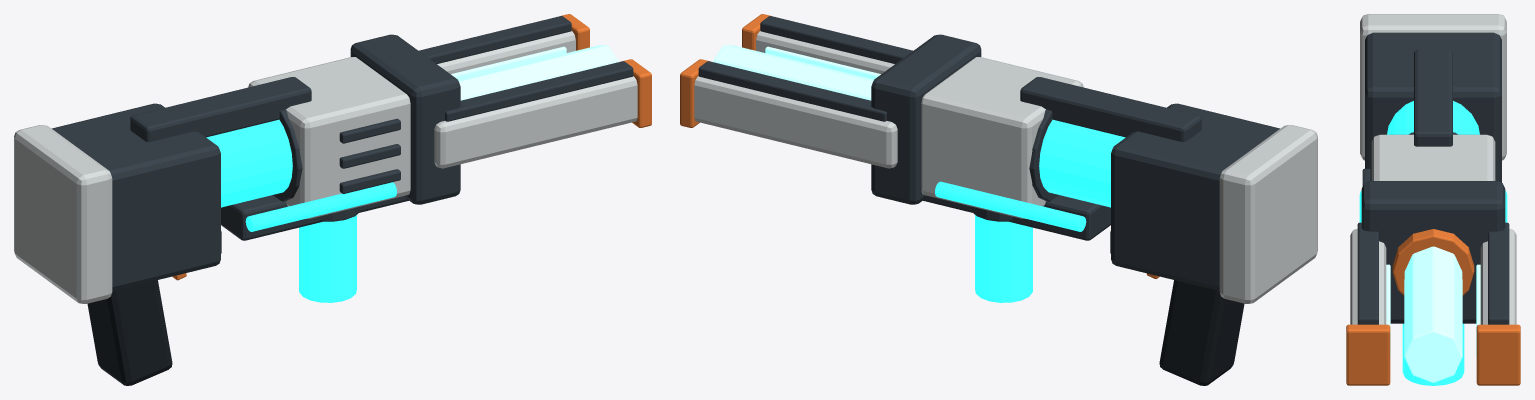
Rendered from lg_duel_freeze_gun.glb.
The picture shows the model from 3 angles, left to right: view 1: azimuth 30°, elevation 25°; view 2: azimuth 150°, elevation 25°; view 3: azimuth 270°, elevation 25°; orthographic projection. The views are drawn at different scales.
Visible parts, largest first — view 1: FG_REAR_HOUSING, FG_REAR_CERAMIC_CAP, FG_FORWARD_RECEIVER, FG_EMITTER_FORK, FG_EMITTER_COLLAR, FG_PRIMARY_GRIP, FG_TOP_SPINE, FG_COOLANT_CHAMBER, FG_REPLACEABLE_CANISTER, FG_FOCUS_CORE, FG_FORK_METAL_RAIL, FG_FORK_METAL_RAIL.001 (+9 smaller); view 2: FG_REAR_HOUSING, FG_FORWARD_RECEIVER, FG_REAR_CERAMIC_CAP, FG_EMITTER_FORK.001, FG_EMITTER_COLLAR, FG_PRIMARY_GRIP, FG_TOP_SPINE, FG_COOLANT_CHAMBER, FG_REPLACEABLE_CANISTER, FG_FOCUS_CORE, FG_FORK_METAL_RAIL.001, FG_FORK_METAL_RAIL (+6 smaller); view 3: FG_REAR_HOUSING, FG_EMITTER_COLLAR, FG_FOCUS_CORE, FG_FORWARD_RECEIVER, FG_REAR_CERAMIC_CAP, FG_TOP_SPINE, FG_FORK_TIP_CLAMP, FG_FORK_TIP_CLAMP.001, FG_FOCUS_COLLAR, FG_FORK_METAL_RAIL, FG_FORK_METAL_RAIL.001, FG_EMITTER_FORK (+5 smaller).
Boxes of the visible parts, x1=… form: FG_REAR_HOUSING: x1=52, y1=103, x2=220, y2=290; FG_REAR_CERAMIC_CAP: x1=14, y1=125, x2=112, y2=303; FG_FORWARD_RECEIVER: x1=248, y1=57, x2=410, y2=218; FG_EMITTER_FORK: x1=434, y1=76, x2=637, y2=168; FG_EMITTER_COLLAR: x1=350, y1=34, x2=460, y2=204; FG_PRIMARY_GRIP: x1=87, y1=280, x2=172, y2=385; FG_TOP_SPINE: x1=130, y1=77, x2=311, y2=141; FG_COOLANT_CHAMBER: x1=206, y1=119, x2=292, y2=207; FG_REPLACEABLE_CANISTER: x1=299, y1=215, x2=356, y2=302; FG_FOCUS_CORE: x1=458, y1=45, x2=618, y2=100; FG_FORK_METAL_RAIL: x1=445, y1=61, x2=633, y2=121; FG_FORK_METAL_RAIL.001: x1=419, y1=16, x2=571, y2=63; FG_REAR_HOUSING: x1=1111, y1=103, x2=1279, y2=290; FG_FORWARD_RECEIVER: x1=921, y1=57, x2=1083, y2=218; FG_REAR_CERAMIC_CAP: x1=1219, y1=125, x2=1317, y2=303; FG_EMITTER_FORK.001: x1=694, y1=76, x2=897, y2=168; FG_EMITTER_COLLAR: x1=871, y1=34, x2=981, y2=204; FG_PRIMARY_GRIP: x1=1159, y1=280, x2=1244, y2=385; FG_TOP_SPINE: x1=1020, y1=77, x2=1201, y2=141; FG_COOLANT_CHAMBER: x1=1039, y1=119, x2=1125, y2=207; FG_REPLACEABLE_CANISTER: x1=975, y1=215, x2=1032, y2=302; FG_FOCUS_CORE: x1=713, y1=45, x2=873, y2=100; FG_FORK_METAL_RAIL.001: x1=698, y1=61, x2=886, y2=121; FG_FORK_METAL_RAIL: x1=760, y1=16, x2=912, y2=63; FG_REAR_HOUSING: x1=1365, y1=32, x2=1501, y2=182; FG_EMITTER_COLLAR: x1=1361, y1=181, x2=1505, y2=323; FG_FOCUS_CORE: x1=1404, y1=246, x2=1462, y2=382; FG_FORWARD_RECEIVER: x1=1371, y1=134, x2=1495, y2=180; FG_REAR_CERAMIC_CAP: x1=1360, y1=14, x2=1506, y2=160; FG_TOP_SPINE: x1=1414, y1=49, x2=1452, y2=146; FG_FORK_TIP_CLAMP: x1=1346, y1=324, x2=1390, y2=385; FG_FORK_TIP_CLAMP.001: x1=1476, y1=324, x2=1520, y2=385; FG_FOCUS_COLLAR: x1=1392, y1=229, x2=1474, y2=295; FG_FORK_METAL_RAIL: x1=1357, y1=222, x2=1378, y2=324; FG_FORK_METAL_RAIL.001: x1=1488, y1=222, x2=1509, y2=324; FG_EMITTER_FORK: x1=1350, y1=229, x2=1386, y2=324.
Size of the model in its own units: 2.11 by 0.8934 by 0.535.
